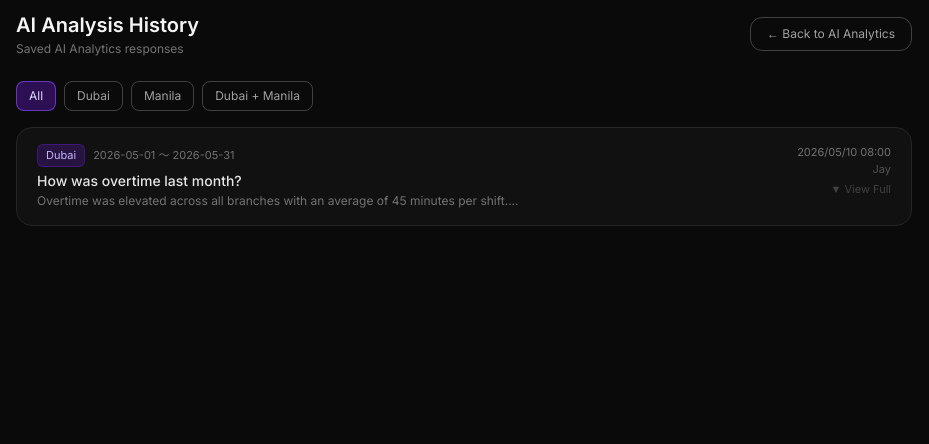
Test: AiHistoryPage › shows token counts in expanded card detail
Check: the text "How was overtime last month?" is shown, box [37, 172, 242, 188]
Click the 5th button. click: x=61, y=155
box: [17, 128, 911, 224]
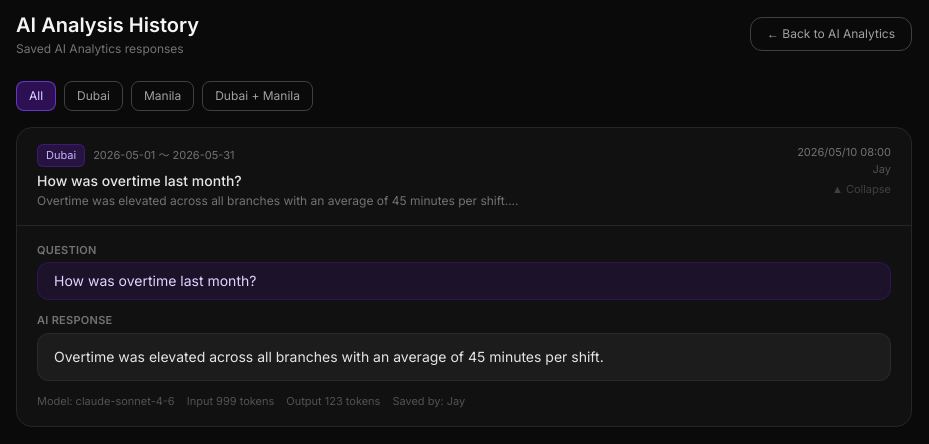
Check: the text "Input 999 tokens" is shown, box [187, 393, 274, 410]
Check: the text "Output 123 tokens" is shown, box [286, 393, 380, 410]
